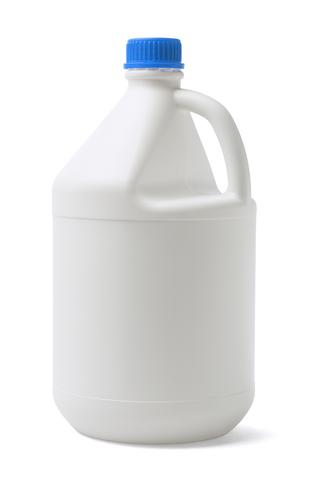HDPE: (7, 4, 333, 499)
